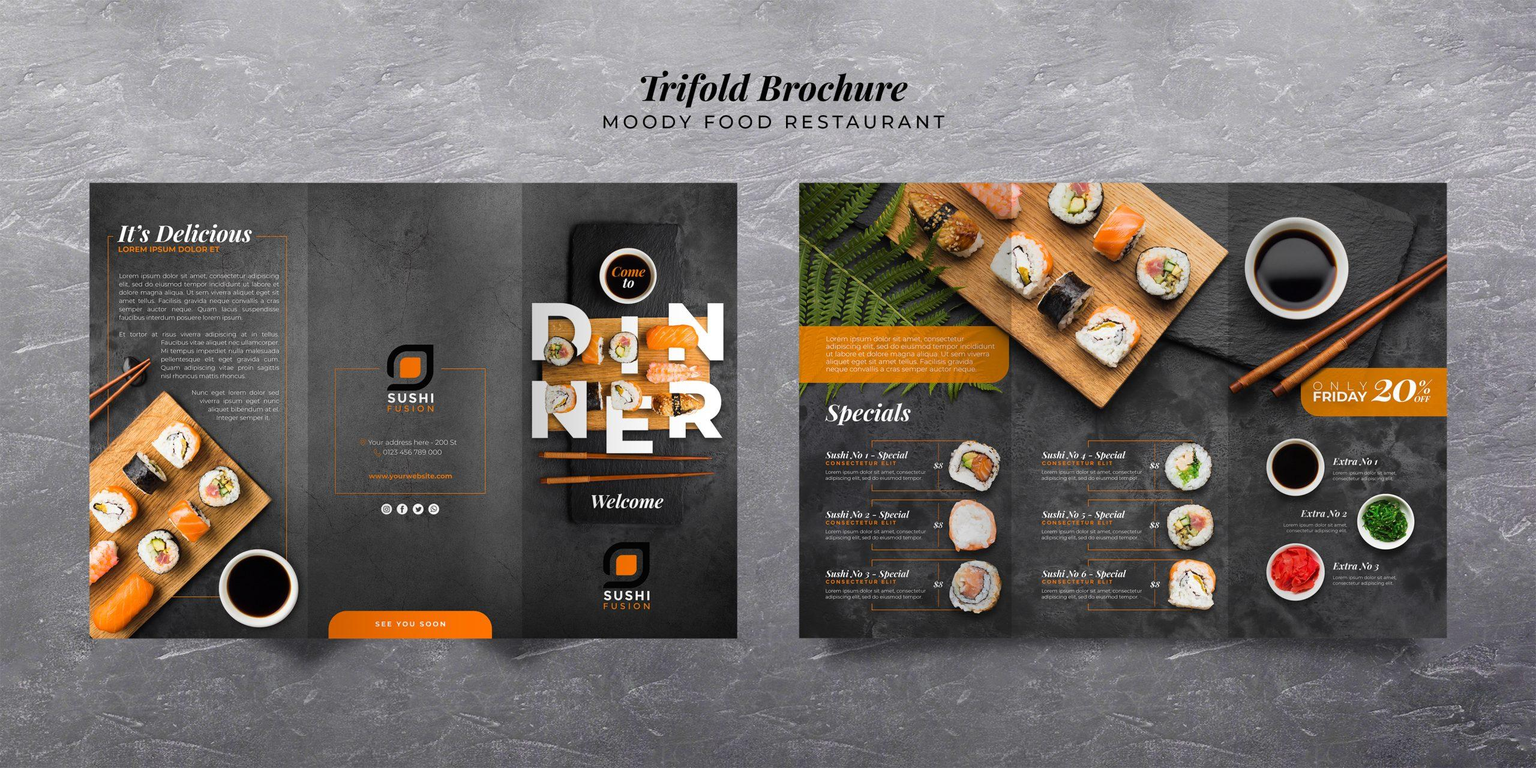paper: (83, 181, 742, 638), (794, 181, 1450, 638), (88, 181, 738, 639), (800, 227, 1010, 429)
